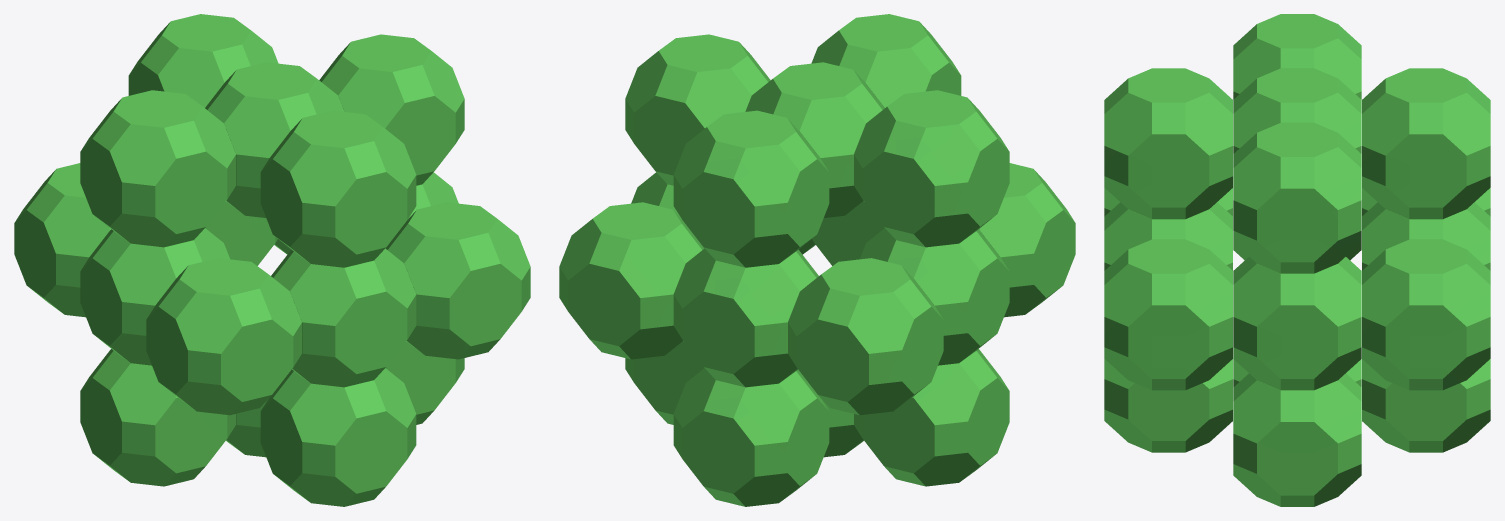
The model's file is fractaltruncatedcuboctahedron4-1.glb.
The picture shows the model from 3 angles, left to right: view 1: azimuth 30°, elevation 25°; view 2: azimuth 150°, elevation 25°; view 3: azimuth 270°, elevation 25°; orthographic projection. The views are drawn at different scales.
Size of the model in its own units: 7.2 by 7.2 by 7.2.
